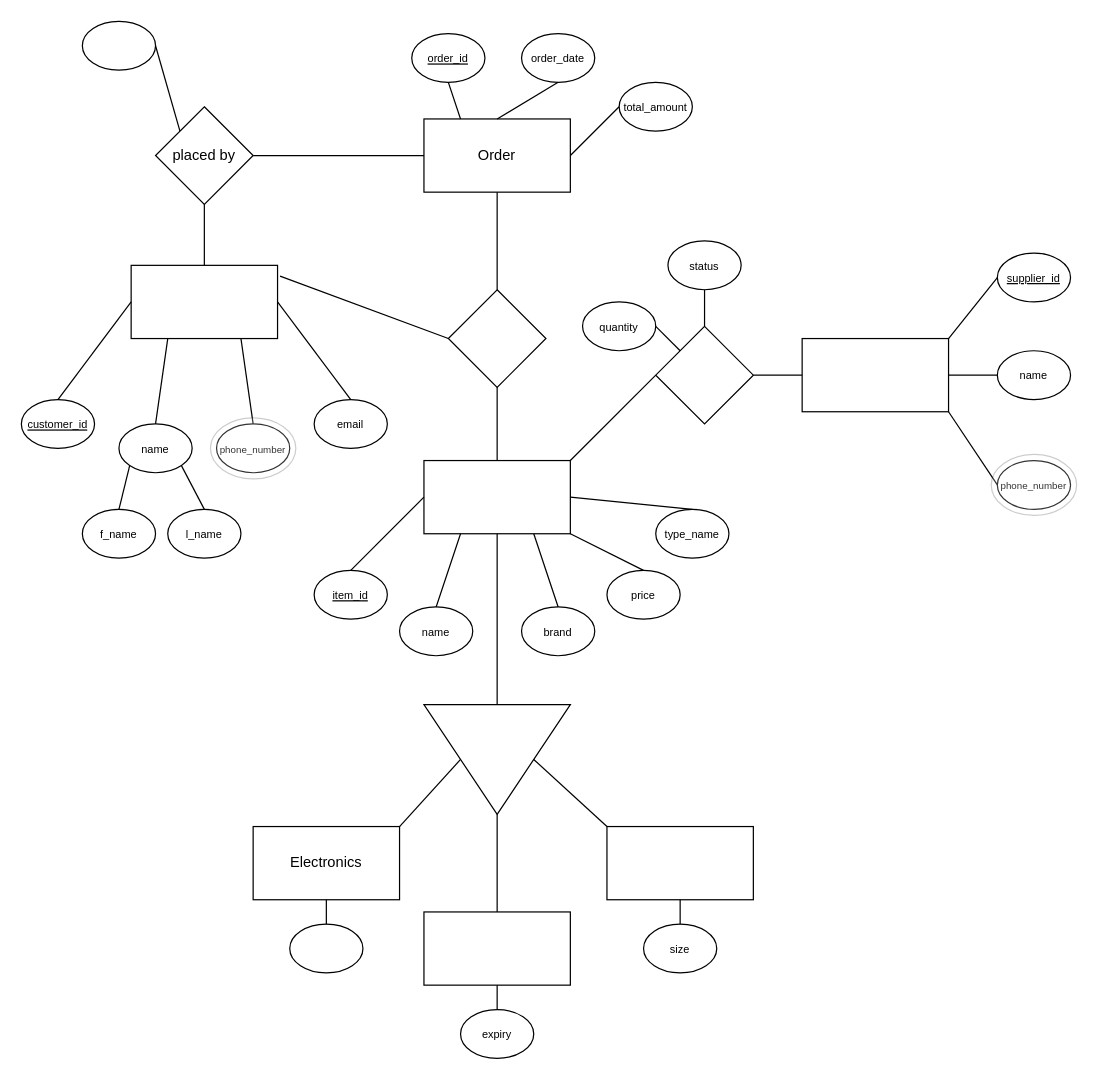
Some shapes in this 1098 by 1080 pixel diagram are drawn without their labels. Here are the shapes that lost their labels. From the top down, the box of each, then its label:
(81, 20, 156, 70): Bill
(130, 264, 278, 339): Customer
(447, 289, 546, 387): contains
(655, 325, 753, 424): supplied by
(801, 337, 949, 412): Supplier
(423, 459, 570, 534): Product
(423, 703, 570, 814): is of category
(606, 825, 753, 900): Clothing
(289, 923, 363, 973): warranty
(423, 911, 570, 985): Food
